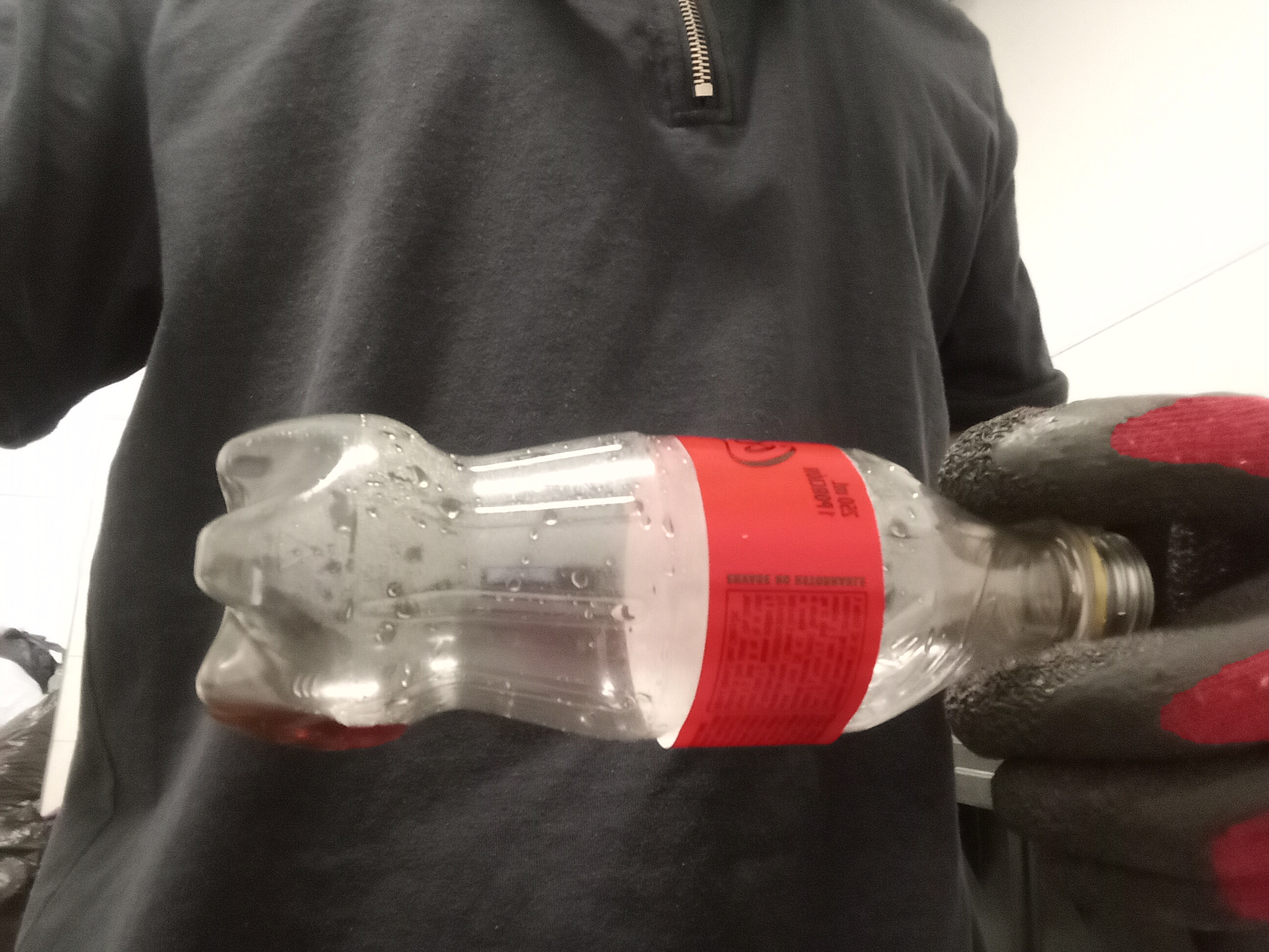Plastico: (195, 412, 1155, 748)
